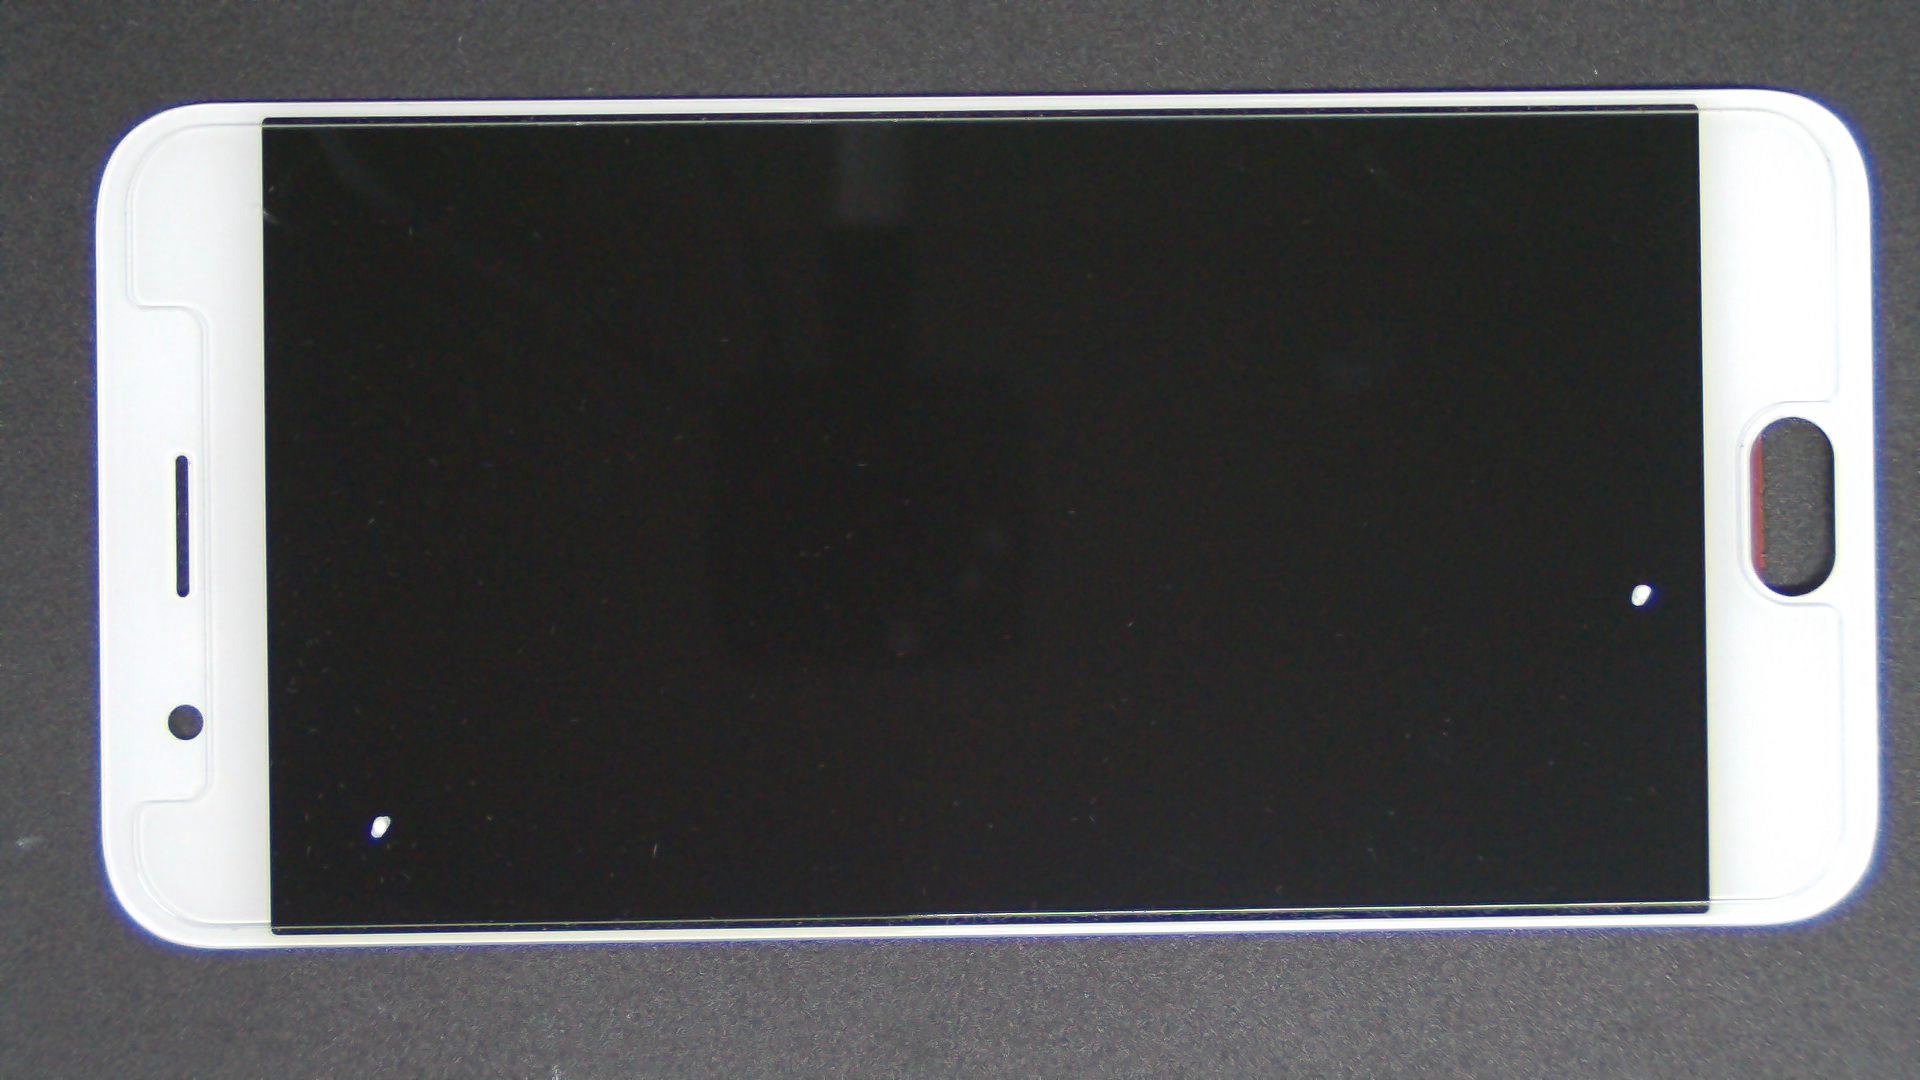defect: (1630, 583, 1654, 607), (369, 814, 392, 839)
